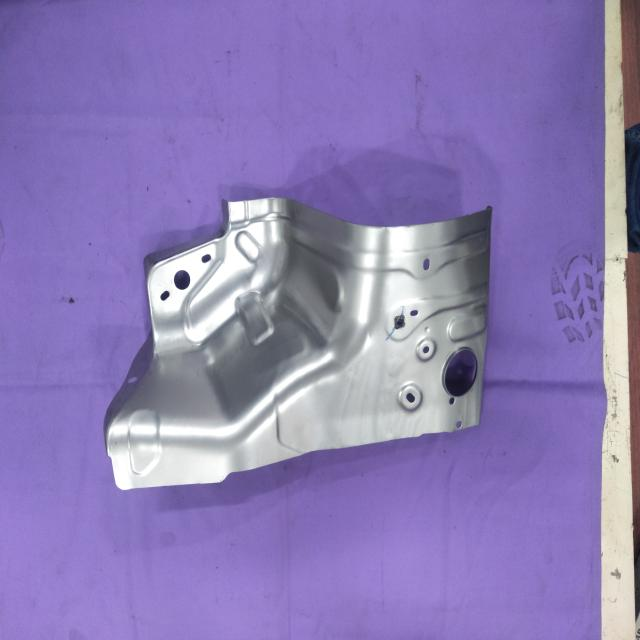Healthy: (103, 191, 494, 492)
